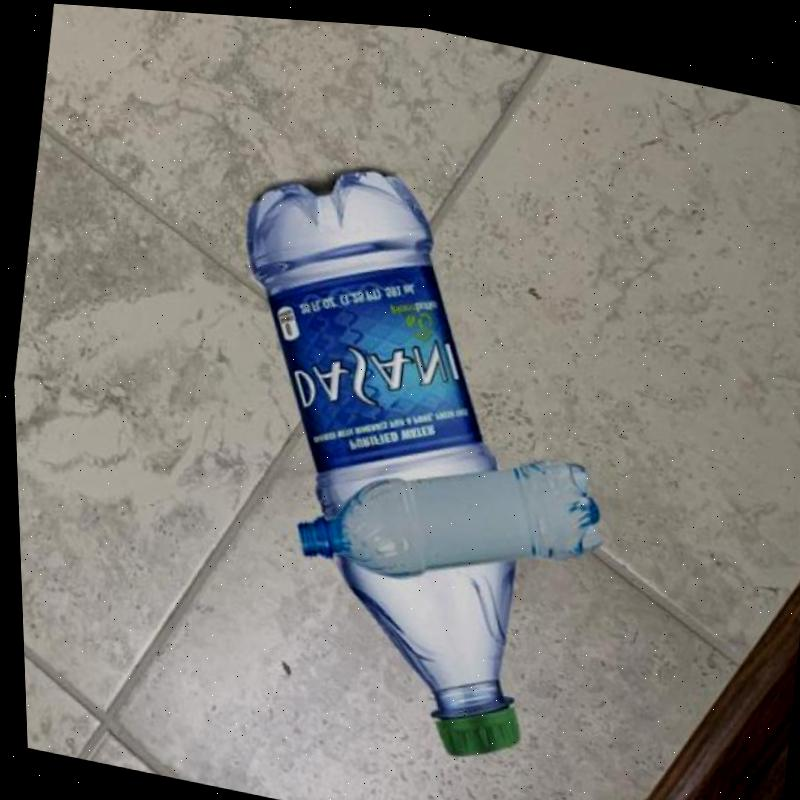botella: (177, 136, 587, 764), (283, 399, 613, 613)
